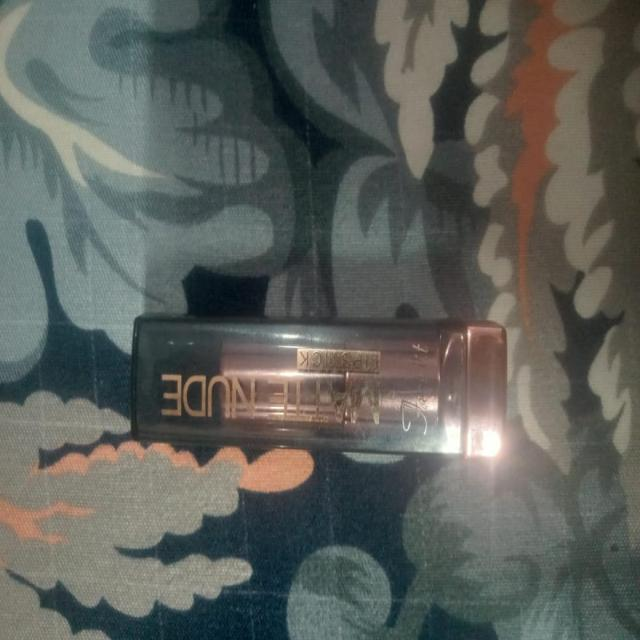lip stick: (113, 288, 518, 480)
